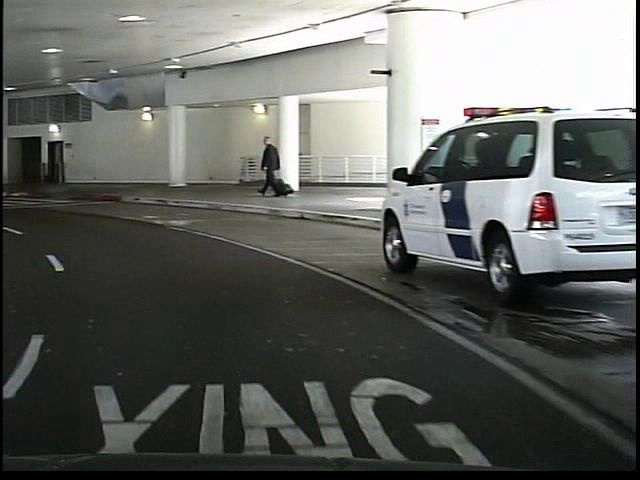person: (253, 132, 280, 202)
